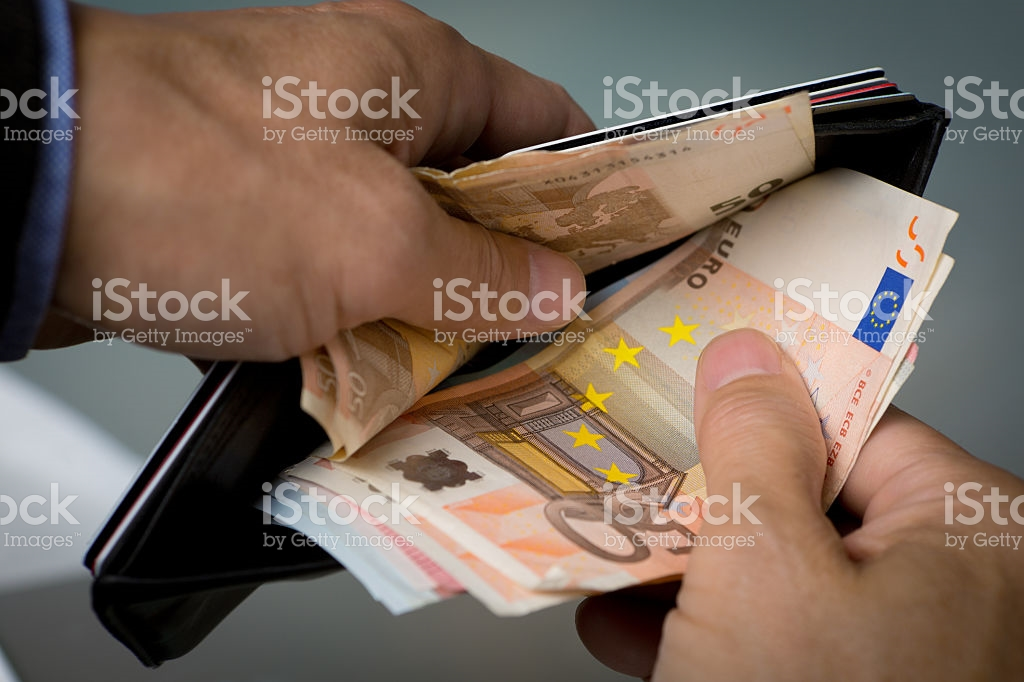billete: (249, 166, 963, 622), (291, 85, 820, 472)
